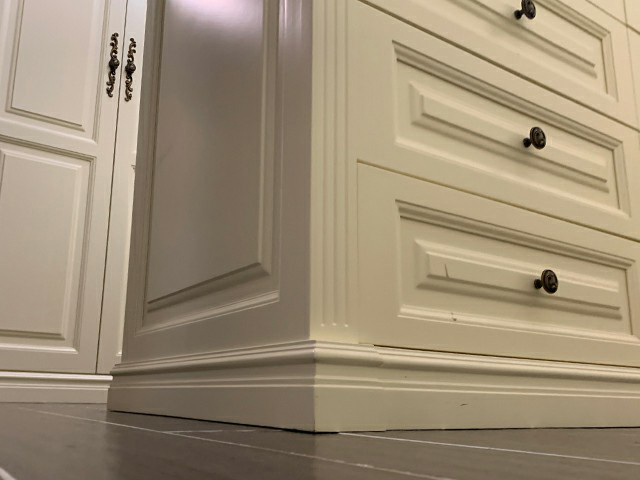cabinet: (106, 1, 640, 431), (1, 1, 146, 402)
